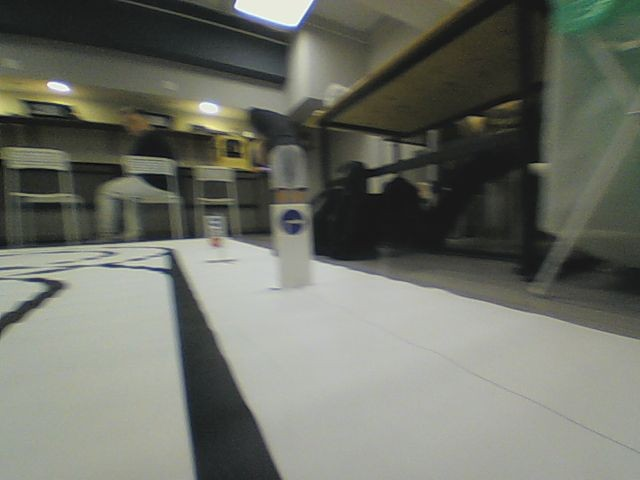Right: (280, 208, 307, 236)
